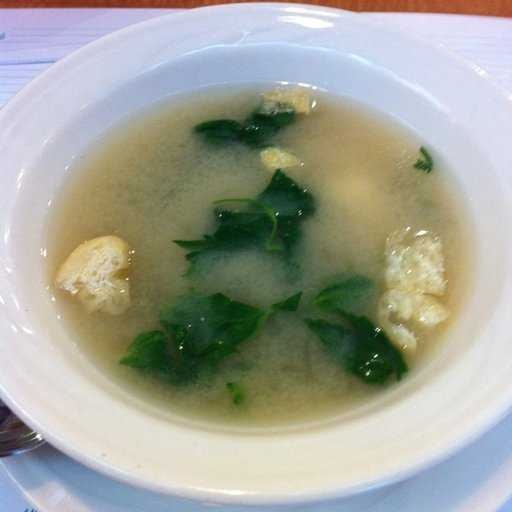soup: (41, 65, 479, 442)
